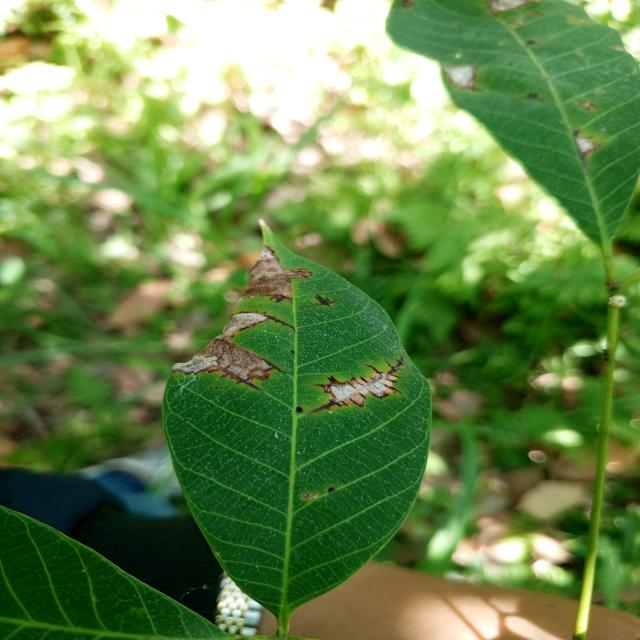Colletotrichum: (296, 406, 303, 413), (328, 487, 336, 492)
Corynespora: (313, 356, 407, 413), (212, 365, 262, 391), (264, 315, 296, 332), (263, 357, 285, 374), (314, 294, 335, 308)
Leaf-Blight: (171, 312, 266, 382), (238, 246, 312, 303)
